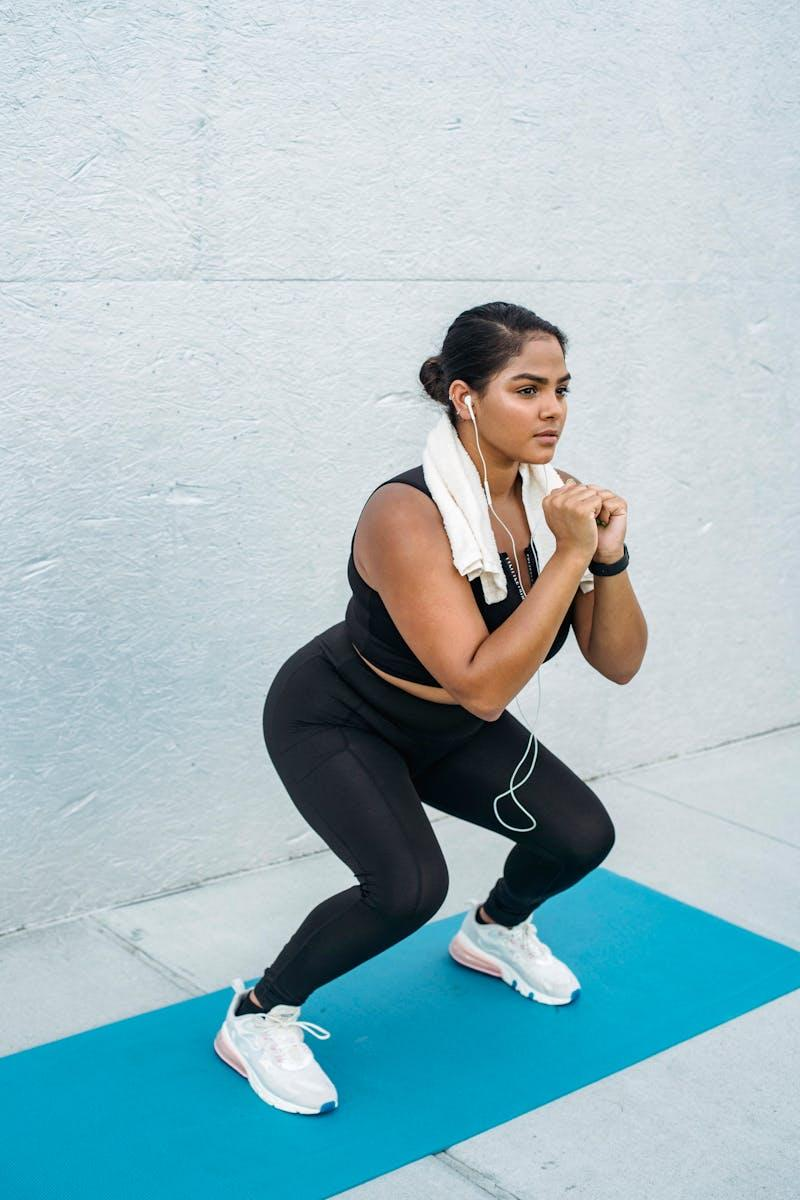Squat: (211, 299, 648, 1116)
